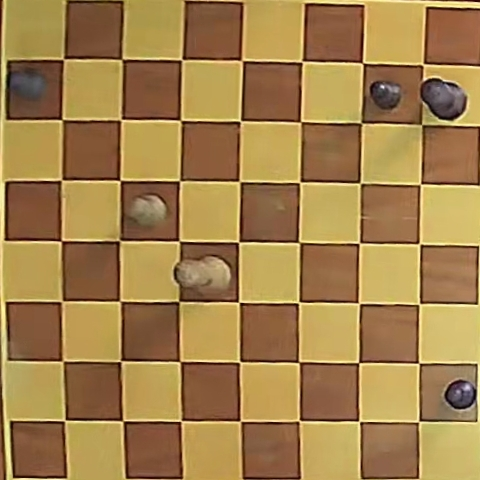black-king: (420, 79, 466, 120)
black-pawn: (9, 68, 47, 100), (444, 379, 476, 410), (370, 80, 403, 109)
white-king: (175, 256, 232, 290)
white-pawn: (129, 194, 167, 227)
